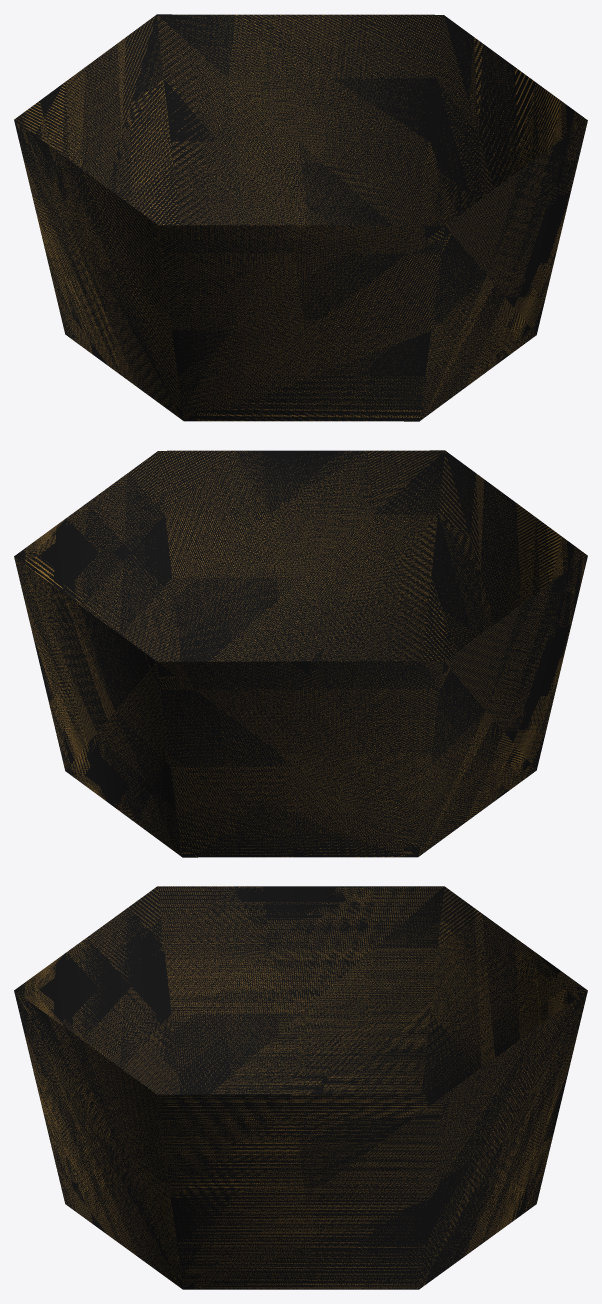
Rendered from original-2.obj.
3 renders of one model, top to bottom at view 1: azimuth 30°, elevation 25°; view 2: azimuth 150°, elevation 25°; view 3: azimuth 270°, elevation 25°, orthographic.
Parts seen in each view (by area): view 1: 3dw.d32af00b6b170bebeefb4d7820758668/Model/mesh1/mesh1-geometry/; view 2: 3dw.d32af00b6b170bebeefb4d7820758668/Model/mesh1/mesh1-geometry/; view 3: 3dw.d32af00b6b170bebeefb4d7820758668/Model/mesh1/mesh1-geometry/.
Boxes of the visible parts, bbox=[...] form: 3dw.d32af00b6b170bebeefb4d7820758668/Model/mesh1/mesh1-geometry/: bbox=[14, 14, 587, 421]; 3dw.d32af00b6b170bebeefb4d7820758668/Model/mesh1/mesh1-geometry/: bbox=[14, 450, 587, 857]; 3dw.d32af00b6b170bebeefb4d7820758668/Model/mesh1/mesh1-geometry/: bbox=[14, 886, 587, 1289].
Size of the model in its own units: 0.9467 by 0.4519 by 1.1.
